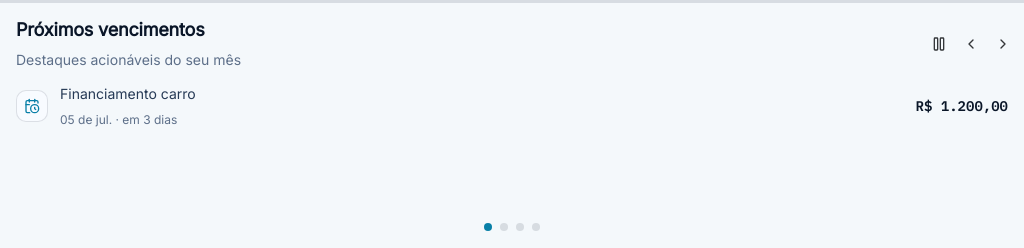
Test: DashboardInsightCarousel › cycles forward through all four panels and wraps around
Click the button with test id "insight-carousel-next". click: x=994, y=44
box: [980,30,1008,58]
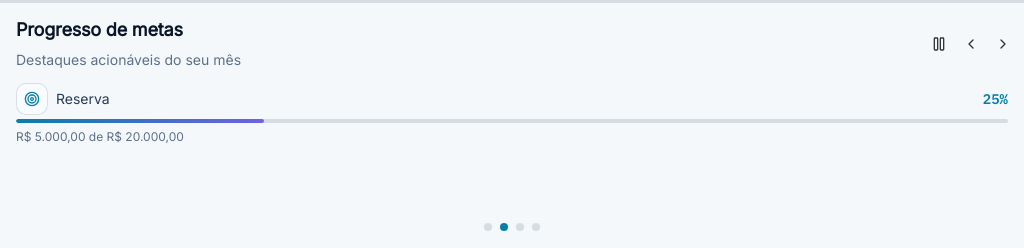
Now the text "Progresso de metas" is shown, box [16,19,183,40]
Now the text "Reserva" is shown, box [56,90,110,107]
Click the button with test id "insight-carousel-next". click: x=994, y=44
box: [980,30,1008,58]
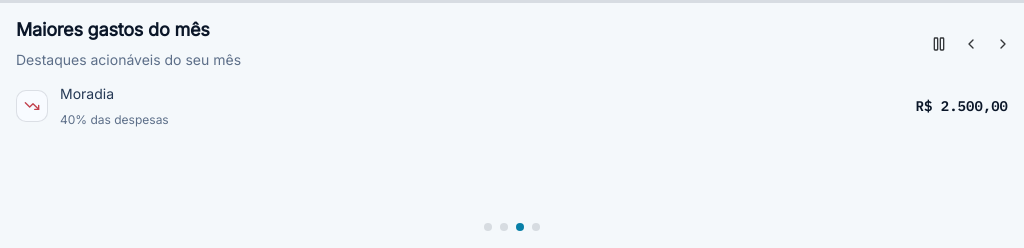
Now the text "Maiores gastos do mês" is shown, box [16,16,241,45]
Now the text "Moradia" is shown, box [60,85,114,102]
Click the button with test id "insight-carousel-next". click: x=994, y=44
box: [980,30,1008,58]
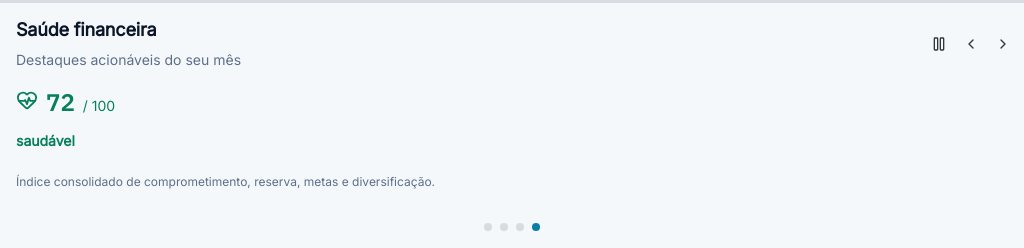
Now the text "Saúde financeira" is shown, box [16,19,156,40]
Now the text "72" is shown, box [46,83,75,122]
Click the button with test id "insight-carousel-next". click: x=994, y=44
box: [980,30,1008,58]
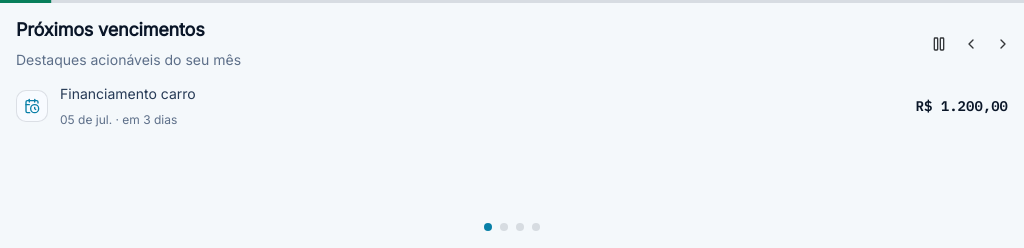
Now the text "Próximos vencimentos" is shown, box [16,19,204,40]
